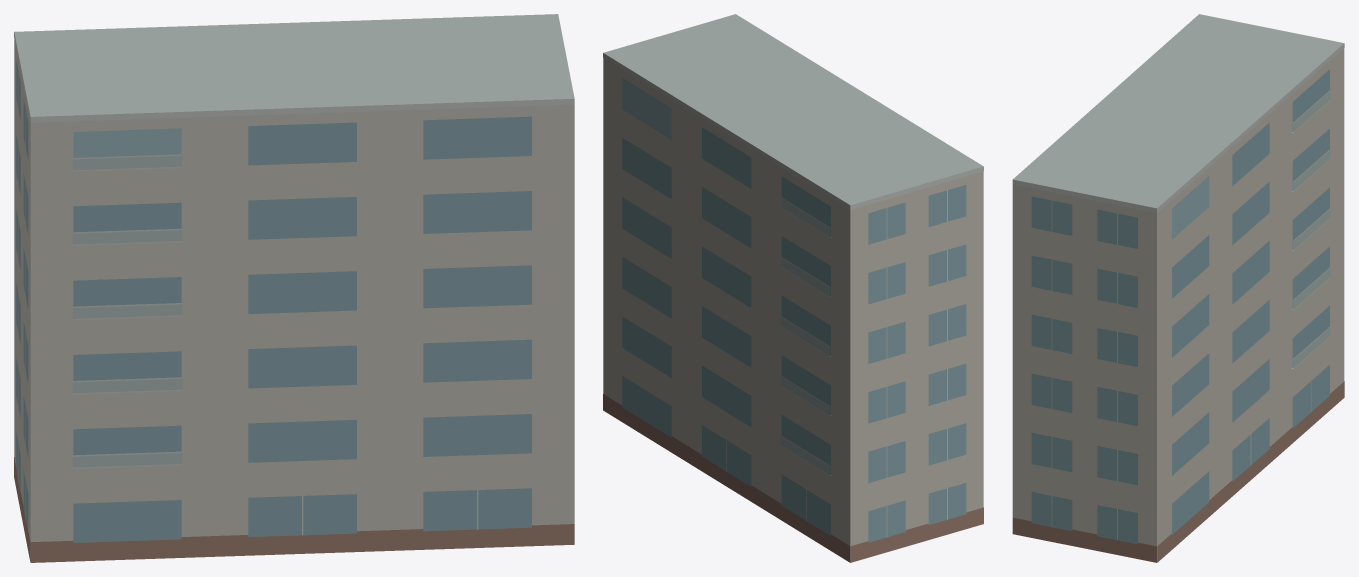
Rendered from survey-upis-32553339.glb.
3 views of the same model, side by side, from view 1: azimuth 30°, elevation 25°; view 2: azimuth 150°, elevation 25°; view 3: azimuth 270°, elevation 25° (orthographic). The views are drawn at different scales.
Parts seen in each view (by area): view 1: survey-upis-32553339.tmp; view 2: survey-upis-32553339.tmp; view 3: survey-upis-32553339.tmp.
Boxes of the visible parts, box(x1,y1,x2,y2) form: survey-upis-32553339.tmp: box(14, 14, 574, 562); survey-upis-32553339.tmp: box(603, 14, 983, 562); survey-upis-32553339.tmp: box(1012, 14, 1344, 562).
Bounding box in the file's own units: 21.53 × 18.3 × 15.54.
